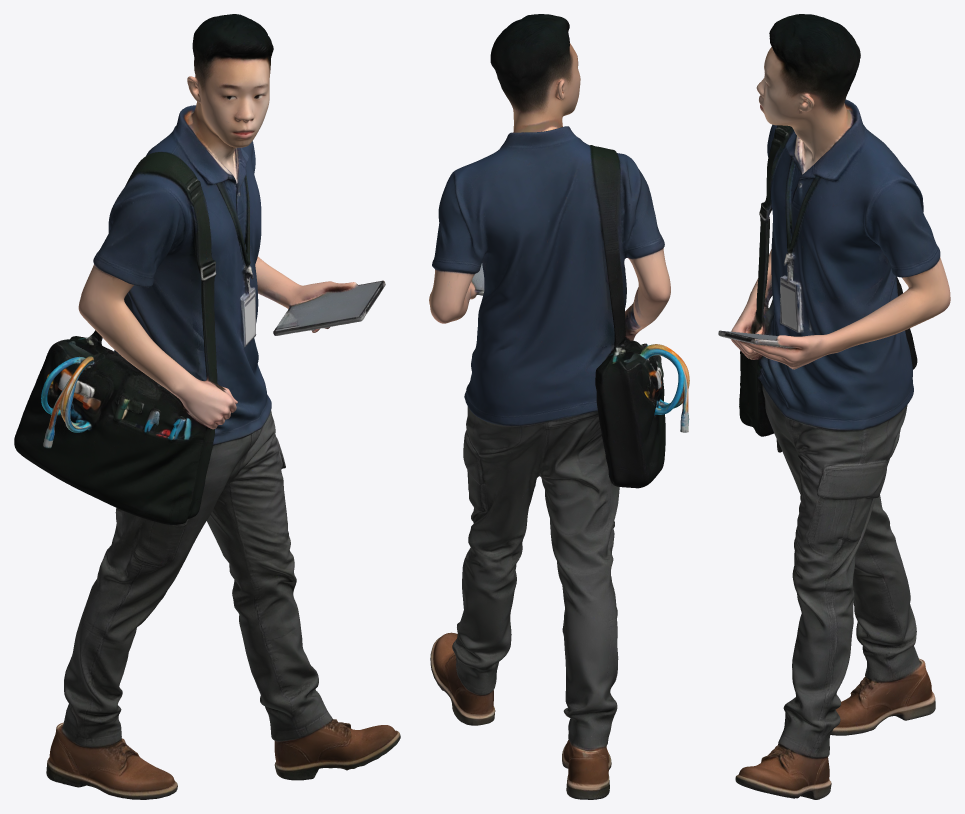
Rendered from field_technician_with_tablet.glb.
3 views of the same model, side by side, from view 1: azimuth 30°, elevation 25°; view 2: azimuth 150°, elevation 25°; view 3: azimuth 270°, elevation 25° (orthographic). The views are drawn at different scales.
Visible parts, largest first — view 1: Object_5, Object_7, Object_6; view 2: Object_6, Object_5, Object_7; view 3: Object_6, Object_5, Object_7.
Boxes of the visible parts, x1,y1,x2,y2 form: Object_5: (36, 14, 400, 799); Object_7: (60, 23, 385, 769); Object_6: (14, 29, 330, 795); Object_6: (429, 18, 689, 799); Object_5: (436, 14, 683, 768); Object_7: (430, 14, 688, 711); Object_6: (778, 16, 950, 799); Object_5: (718, 14, 919, 797); Object_7: (743, 17, 823, 798).
Size of the model in its own units: 0.8094 by 1.9 by 0.5378.
Materials: 1 (1 with a texture image).
